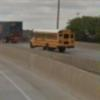buses: (30, 29, 76, 51)
